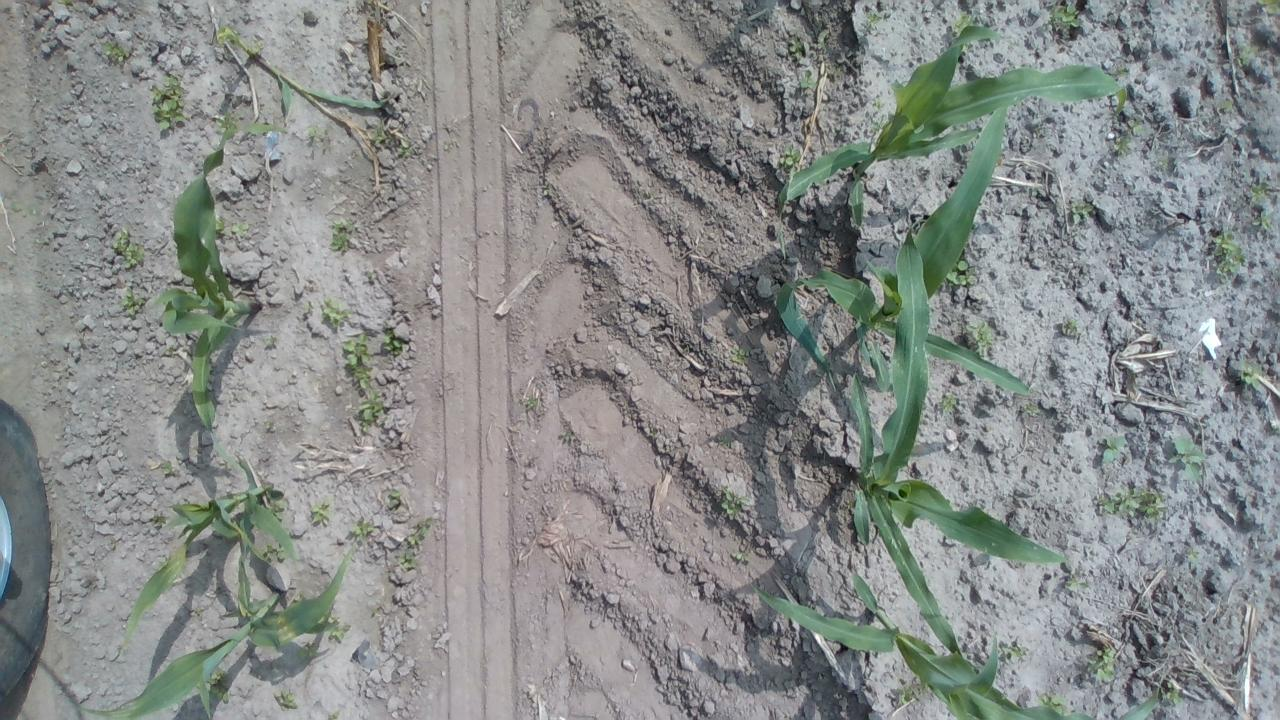Maize: (776, 248, 1042, 673), (776, 93, 1054, 420), (764, 16, 1136, 229), (128, 116, 297, 446), (72, 536, 380, 717), (744, 566, 1104, 720), (112, 439, 326, 656)
Weeds: (1096, 486, 1172, 528), (148, 73, 194, 131), (400, 517, 440, 573), (1171, 432, 1212, 485), (1208, 231, 1252, 280), (342, 332, 378, 390), (351, 387, 389, 430), (1041, 6, 1092, 36), (714, 484, 749, 527), (1098, 426, 1133, 468), (112, 231, 151, 268), (1089, 642, 1121, 684), (206, 663, 234, 707), (944, 256, 980, 290), (208, 219, 256, 244), (324, 218, 358, 253), (1037, 687, 1080, 713), (962, 320, 997, 350), (1066, 196, 1096, 231), (376, 485, 406, 518), (104, 38, 138, 67), (896, 681, 930, 709), (382, 325, 409, 360), (1002, 635, 1032, 666), (348, 514, 377, 546), (1012, 390, 1042, 420), (952, 12, 977, 48), (320, 298, 352, 326), (1248, 178, 1274, 210), (1232, 41, 1260, 69), (776, 142, 804, 170), (326, 620, 356, 645), (1236, 356, 1258, 389), (118, 289, 143, 318), (1123, 110, 1148, 136), (794, 69, 819, 94), (366, 119, 390, 145), (275, 690, 301, 713), (156, 456, 182, 479), (1163, 684, 1187, 708), (1066, 573, 1094, 593), (266, 499, 290, 522), (308, 498, 329, 524), (264, 543, 292, 562), (788, 34, 807, 62), (398, 138, 422, 160), (1110, 134, 1136, 154), (867, 98, 884, 127), (940, 395, 961, 418), (306, 122, 326, 146), (1250, 214, 1278, 230), (1218, 94, 1238, 116), (556, 428, 580, 446), (730, 346, 751, 366), (718, 429, 736, 452), (1256, 0, 1280, 17), (1156, 156, 1177, 174), (1182, 546, 1201, 565), (300, 642, 318, 662), (730, 546, 749, 564), (866, 9, 884, 28), (1061, 318, 1079, 336), (538, 180, 555, 196), (647, 426, 661, 444), (155, 513, 169, 530), (524, 395, 539, 409)
